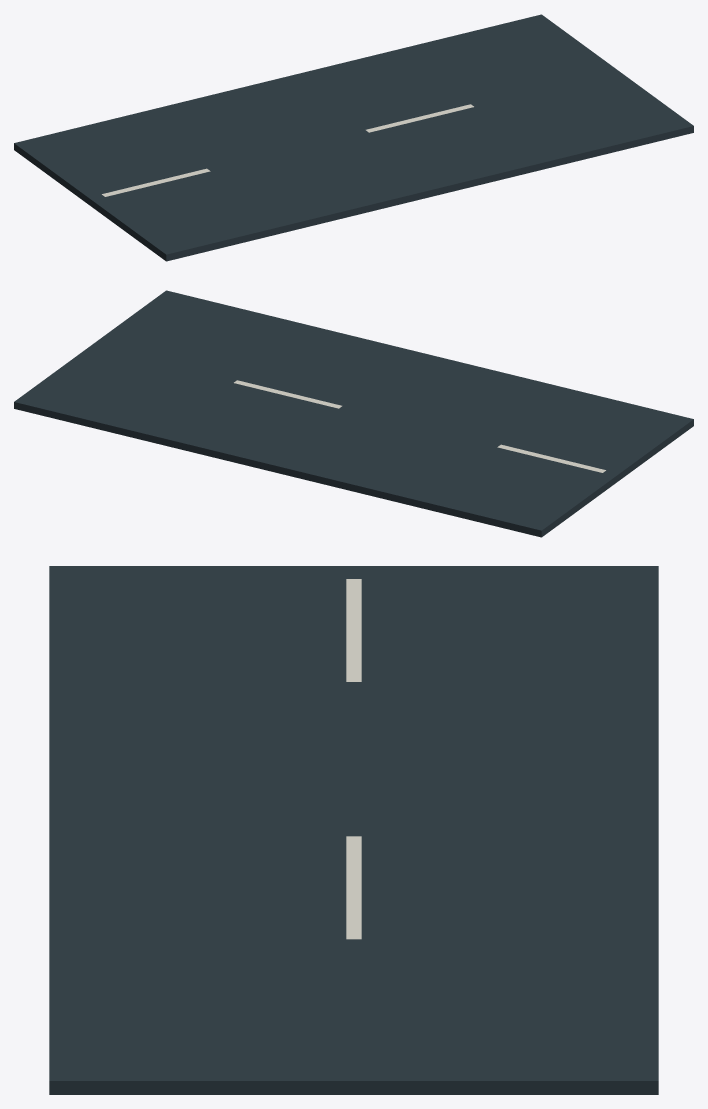
Rendered from res_road_long.glb.
The picture shows the model from 3 angles, top to bottom: view 1: azimuth 30°, elevation 25°; view 2: azimuth 150°, elevation 25°; view 3: azimuth 270°, elevation 25°; orthographic projection. The views are drawn at different scales.
Parts seen in each view (by area): view 1: res_road_long; view 2: res_road_long; view 3: res_road_long.
Boxes of the visible parts, bbox=[...] form: res_road_long: bbox=[14, 14, 693, 261]; res_road_long: bbox=[14, 290, 693, 537]; res_road_long: bbox=[49, 566, 658, 1094].
Bounding box in the file's own units: 8 × 0.1 × 4.
